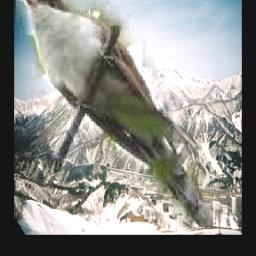Cuckoo: (16, 0, 213, 228)
